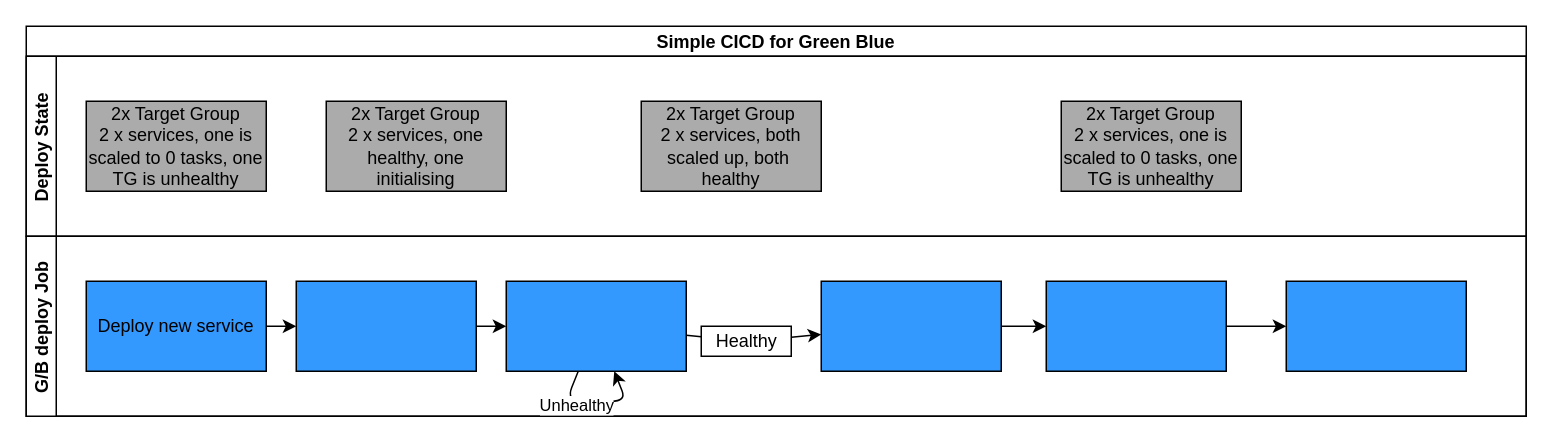
Image size: 1553x443. Some labels were removed from this diagram. Each missing label, with the centre of its shape:
Change routing proportions: the point at 910,325
Check service still healthy: the point at 1375,325
Increase task size to 2: the point at 385,325
Poll for Health of Target Group: the point at 595,325
Reduce old service to no tasks: the point at 1135,325
